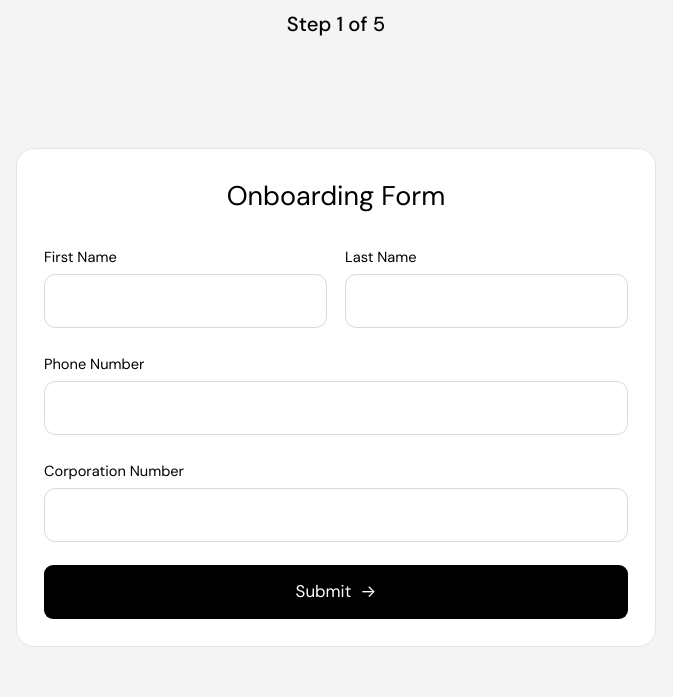
Test: OnboardingPage › shows a required message under each empty field on submit
Click the button "Submit →" at (336, 592), box top-left (44, 565), bottom-right (628, 619)
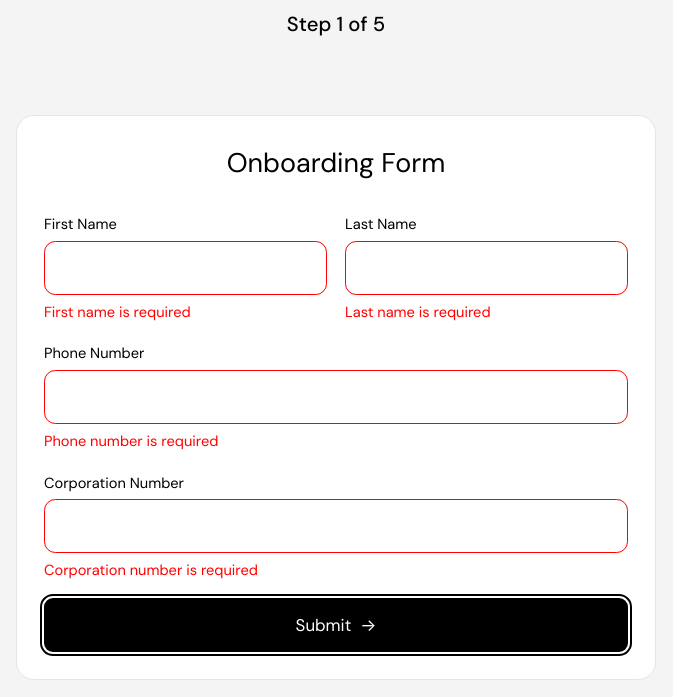
expect the message "First name is required" is shown: met, box top-left (44, 302), bottom-right (191, 322)
expect the message "Last name is required" is shown: met, box top-left (345, 302), bottom-right (491, 322)
expect the message "Phone number is required" is shown: met, box top-left (44, 431), bottom-right (218, 451)
